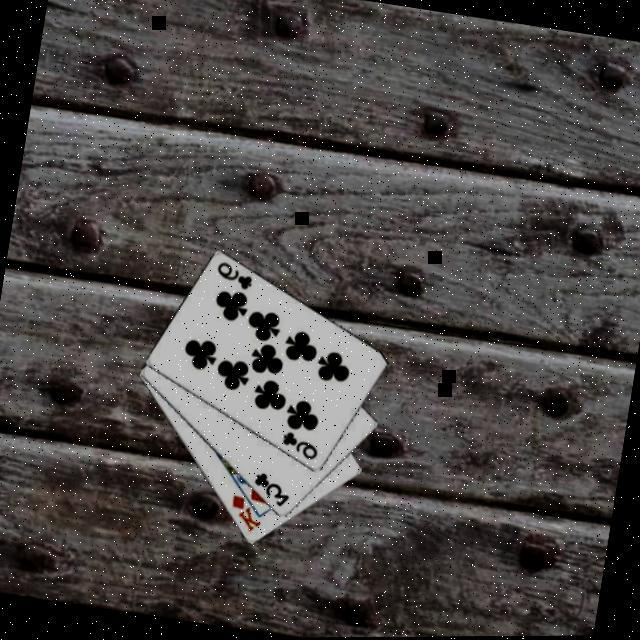3C: (248, 471, 296, 513)
9C: (278, 430, 324, 466), (212, 260, 258, 296)
KD: (224, 494, 268, 538)
